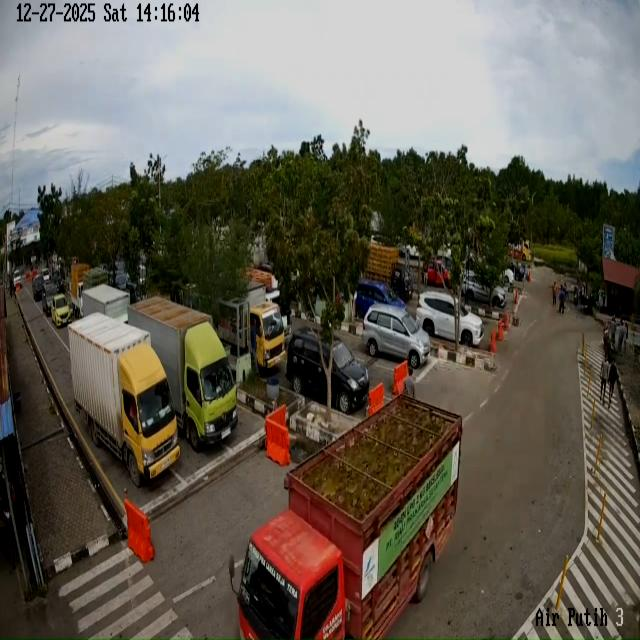Golongan IVA: (286, 327, 370, 414), (362, 304, 430, 369), (416, 290, 484, 347), (355, 279, 406, 320), (462, 271, 506, 308), (51, 294, 71, 328), (42, 280, 59, 316), (32, 274, 45, 302)
Golongan VB: (229, 394, 462, 639), (68, 313, 180, 486), (128, 297, 238, 451)
